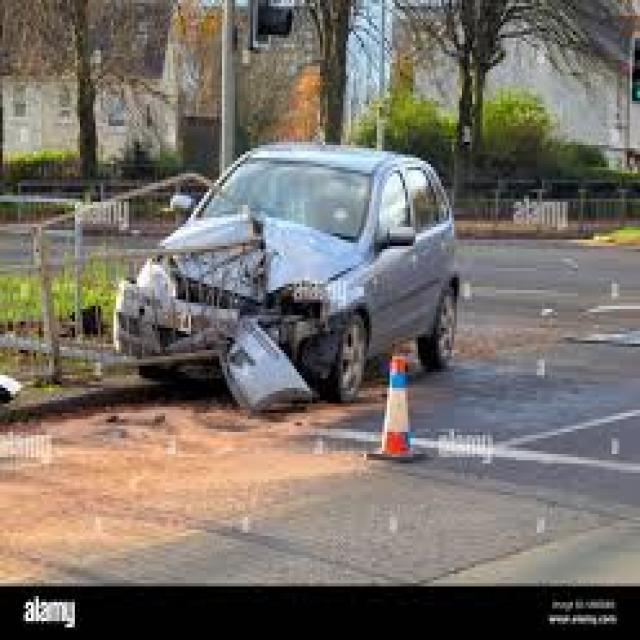damaged-head-light: (268, 276, 324, 324)
